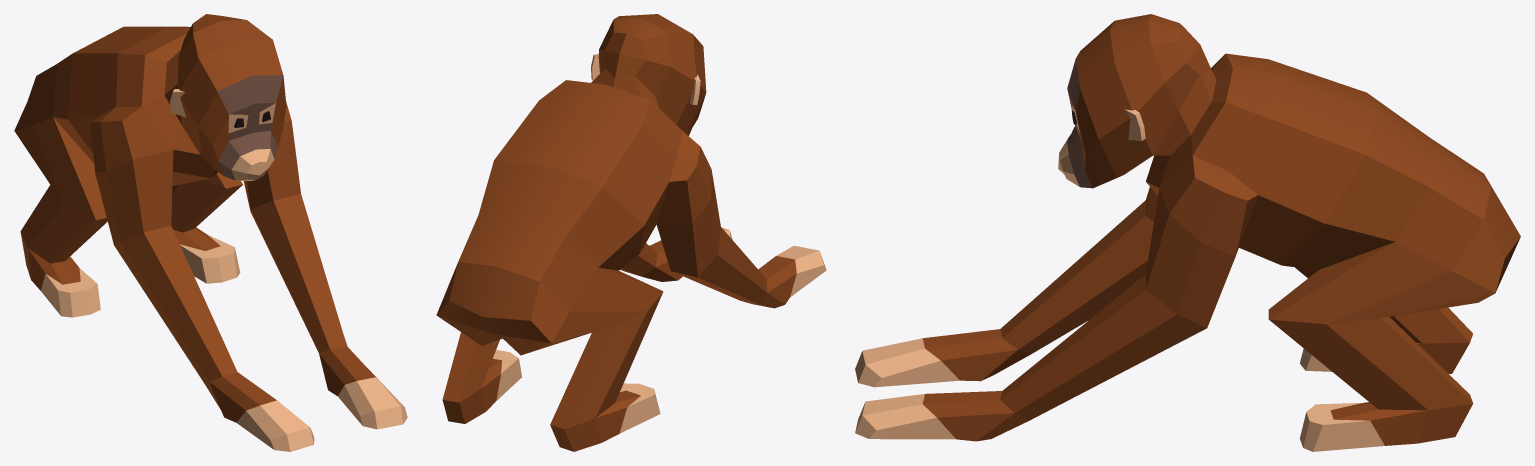
3 views of the same model, side by side, from view 1: azimuth 30°, elevation 25°; view 2: azimuth 150°, elevation 25°; view 3: azimuth 270°, elevation 25° (orthographic). The views are drawn at different scales.
Visible parts, largest first — view 1: Geo_Ape; view 2: Geo_Ape; view 3: Geo_Ape.
Boxes of the visible parts, <box> form: Geo_Ape: <box>14,14,407,451</box>; Geo_Ape: <box>436,14,826,451</box>; Geo_Ape: <box>855,14,1520,451</box>.
Bounding box in the file's own units: 29.11 × 49.02 × 77.89.
1 material, 1 textured.
